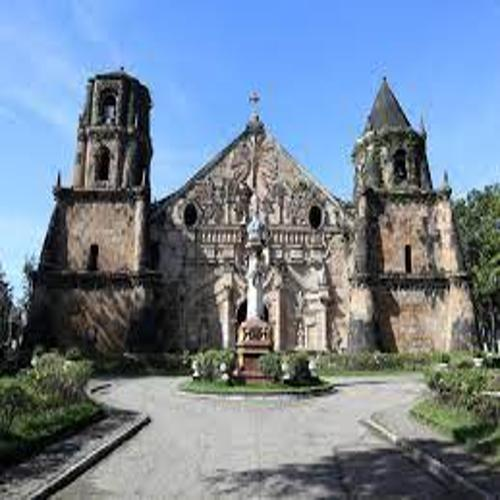Miagao Church: (35, 59, 481, 366)
